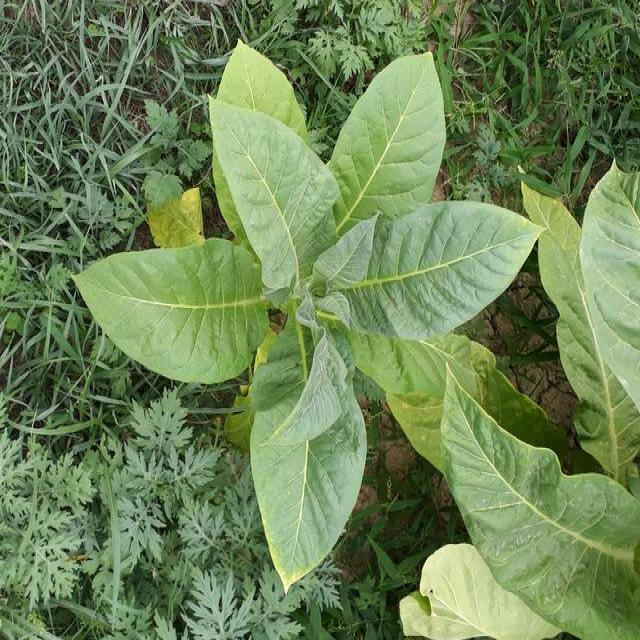crop: (91, 48, 540, 569), (438, 407, 635, 640), (536, 178, 640, 422)
